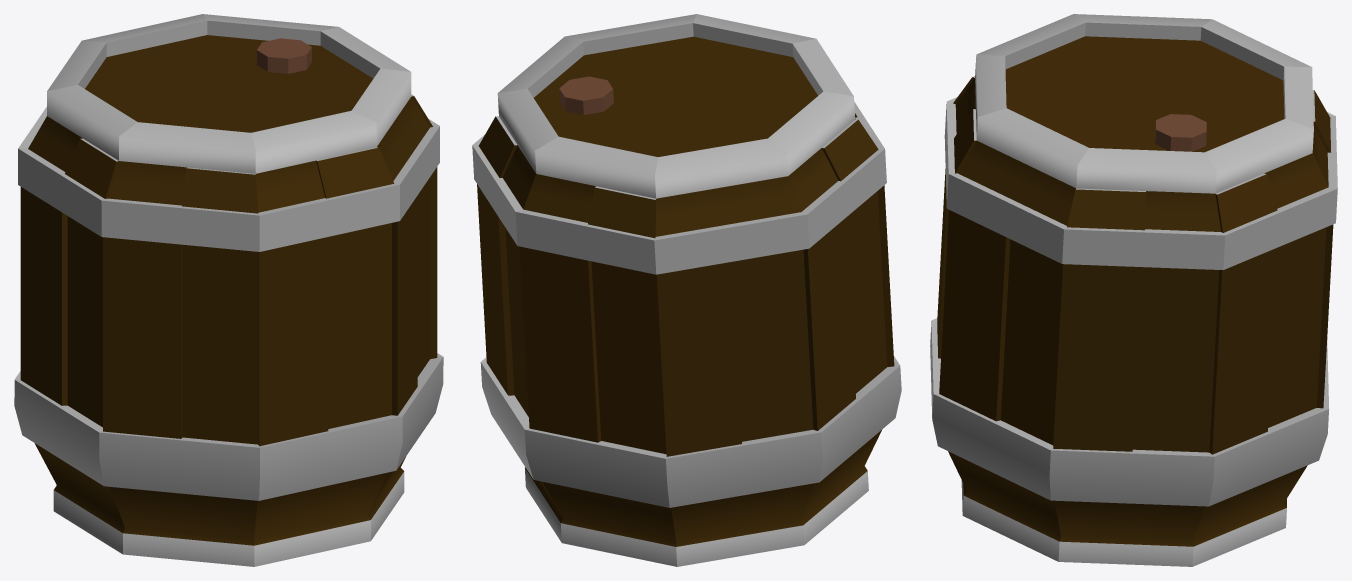
The model's file is Barrel.fbx.
3 renders of one model, left to right at view 1: azimuth 30°, elevation 25°; view 2: azimuth 150°, elevation 25°; view 3: azimuth 270°, elevation 25°, orthographic. The views are drawn at different scales.
Parts seen in each view (by area): view 1: Cylinder.003; view 2: Cylinder.003; view 3: Cylinder.003.
Part boxes in pixels (left/top/right/bottom): Cylinder.003: left=14, top=14, right=443, bottom=566; Cylinder.003: left=472, top=14, right=901, bottom=566; Cylinder.003: left=930, top=14, right=1337, bottom=566.
Bounding box in the file's own units: 27.87 × 32.54 × 28.21.
